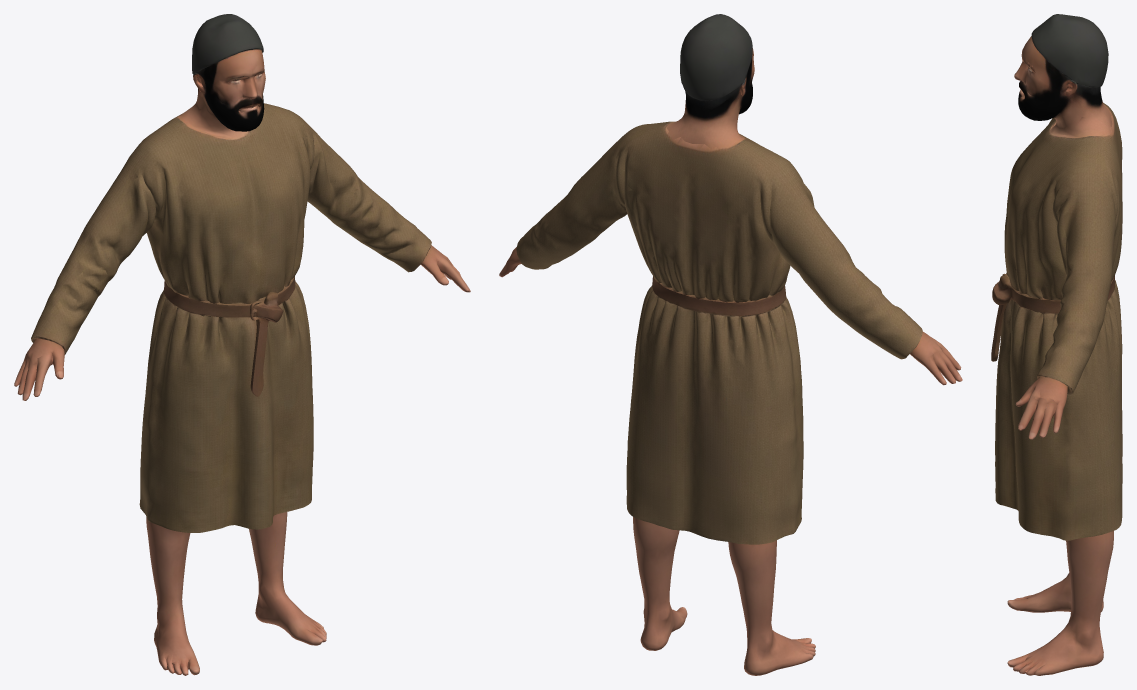
Rendered from israelite_kippa_2.glb.
3 views of the same model, side by side, from view 1: azimuth 30°, elevation 25°; view 2: azimuth 150°, elevation 25°; view 3: azimuth 270°, elevation 25° (orthographic).
Parts seen in each view (by area): view 1: Mesh; view 2: Mesh; view 3: Mesh.
Part boxes in pixels (box(x1,y1,x2,y2)): Mesh: box(14, 14, 470, 675); Mesh: box(499, 14, 962, 675); Mesh: box(991, 14, 1122, 675).
Size of the model in its own units: 1.42 by 1.9 by 0.3624.
1 material, 1 textured.
